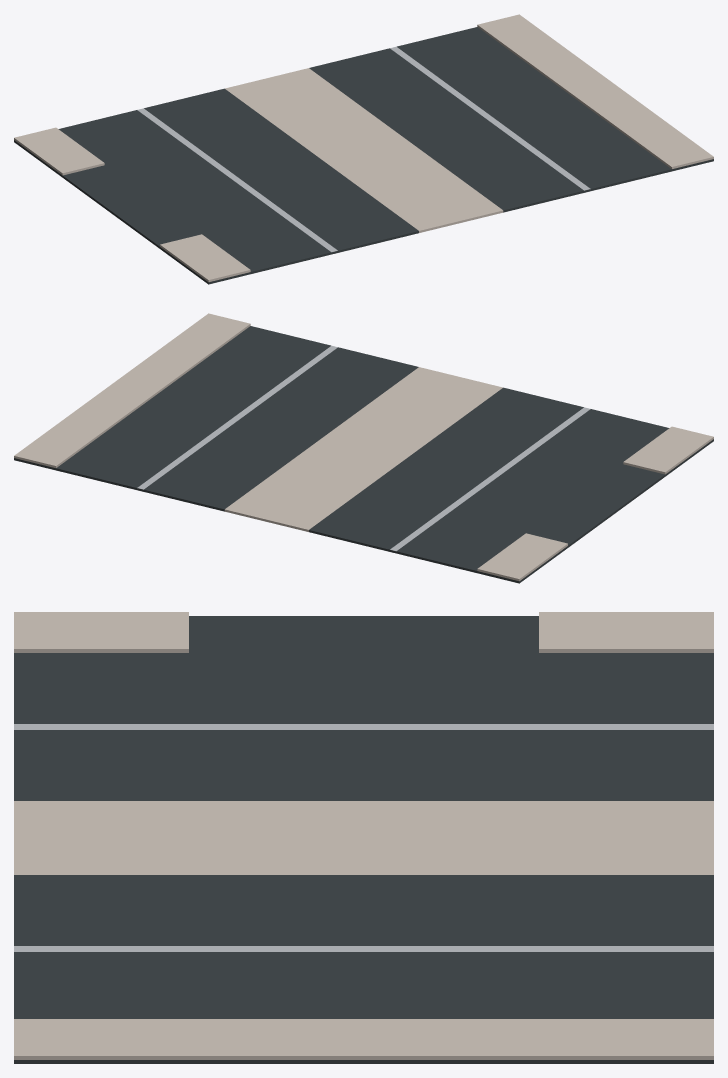
The model's file is SM_road_018.glb.
The picture shows the model from 3 angles, top to bottom: view 1: azimuth 30°, elevation 25°; view 2: azimuth 150°, elevation 25°; view 3: azimuth 270°, elevation 25°; orthographic projection. The views are drawn at different scales.
Parts seen in each view (by area): view 1: SM_road_018; view 2: SM_road_018; view 3: SM_road_018.
Part boxes in pixels (<box>): SM_road_018: <box>14,14,713,284</box>; SM_road_018: <box>14,313,713,583</box>; SM_road_018: <box>14,612,713,1063</box>.
Bounding box in the file's own units: 12 × 0.1 × 8.
1 material, 1 textured.
